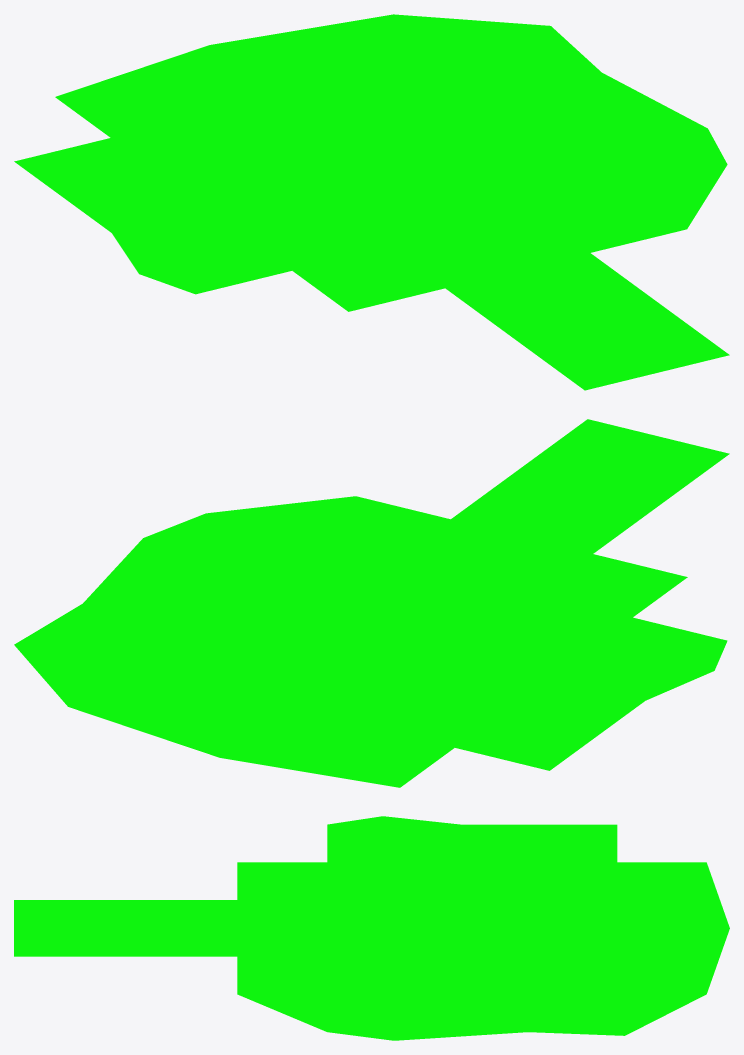
File: s05a_na1-floor.glb
3 views of the same model, one above another, from view 1: azimuth 30°, elevation 25°; view 2: azimuth 150°, elevation 25°; view 3: azimuth 270°, elevation 25° (orthographic). The views are drawn at different scales.
Parts seen in each view (by area): view 1: collision_floor-colonly; view 2: collision_floor-colonly; view 3: collision_floor-colonly.
Boxes of the visible parts, x1,y1,x2,y2 form: collision_floor-colonly: (14, 14, 729, 390); collision_floor-colonly: (14, 419, 729, 787); collision_floor-colonly: (14, 816, 729, 1040).
Bounding box in the file's own units: 23.81 × 0 × 32.07.
